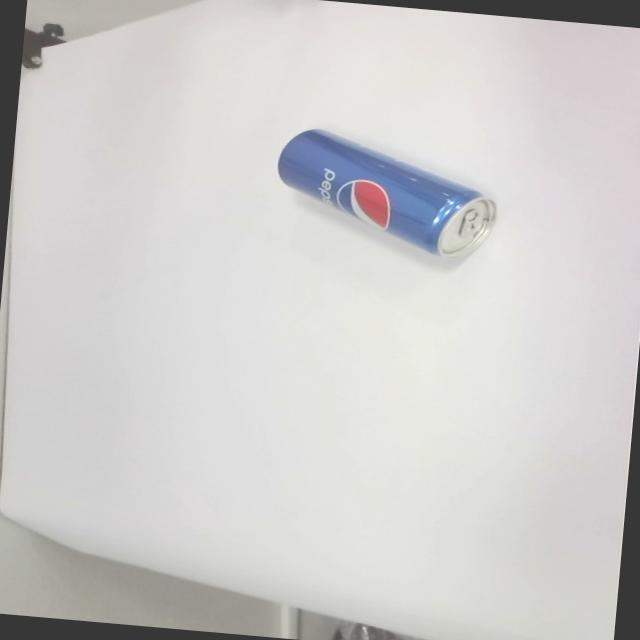debris: (270, 124, 503, 262)
